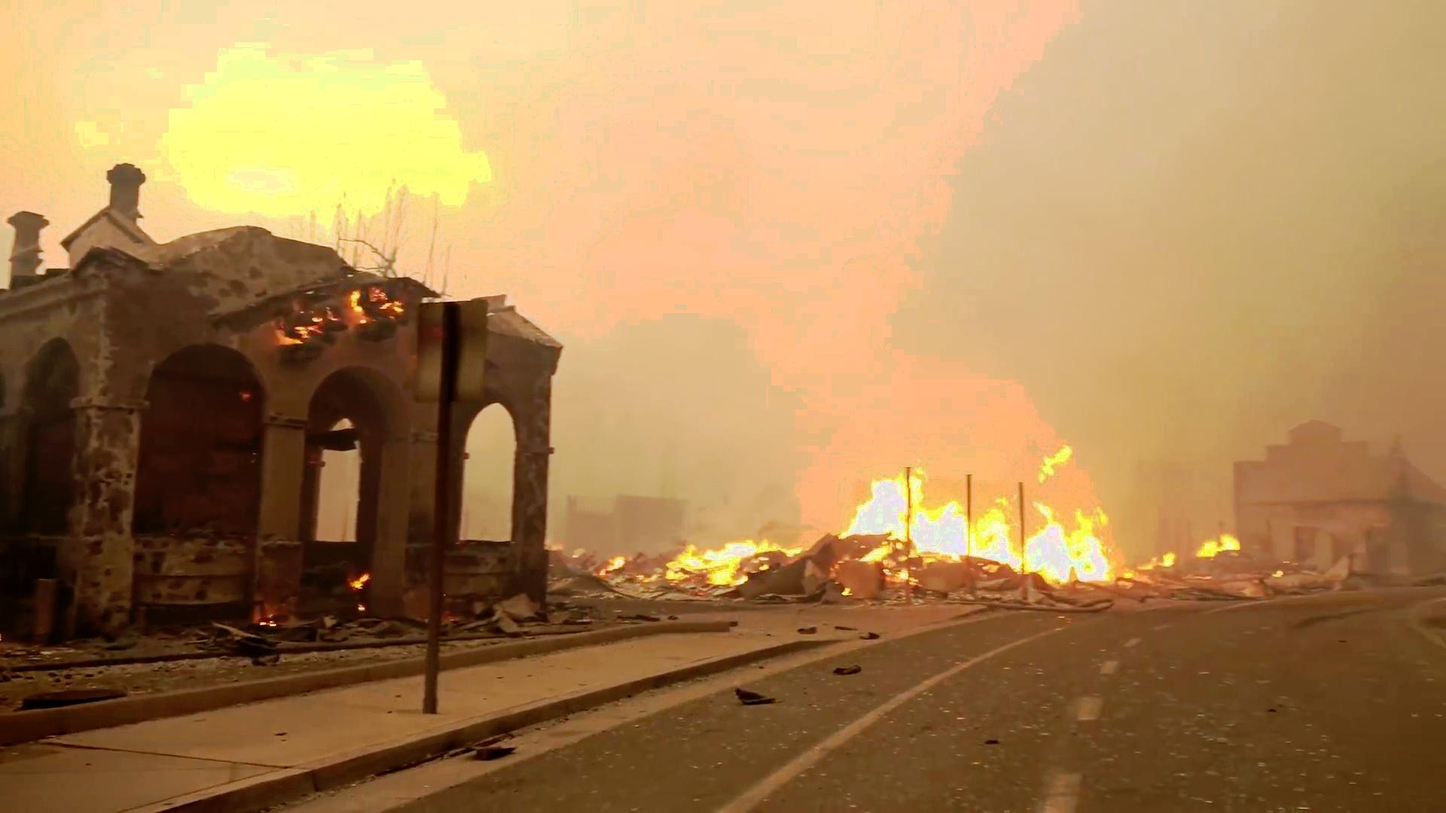fire: (872, 461, 1120, 589)
